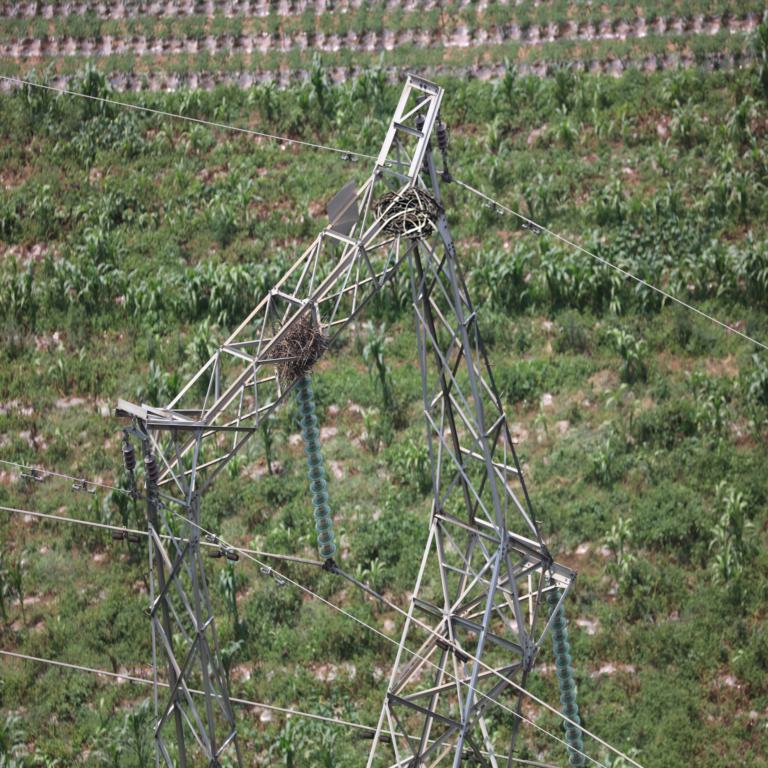nest: (375, 191, 441, 238), (271, 316, 318, 376)
